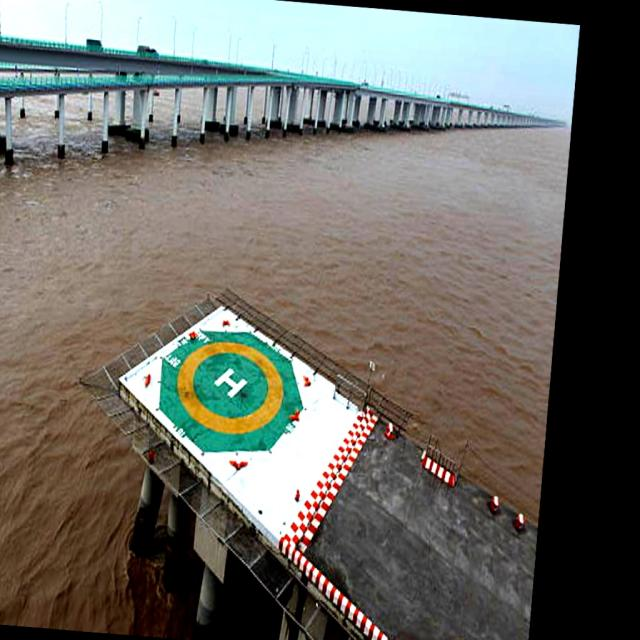helipad: (174, 337, 288, 438)
